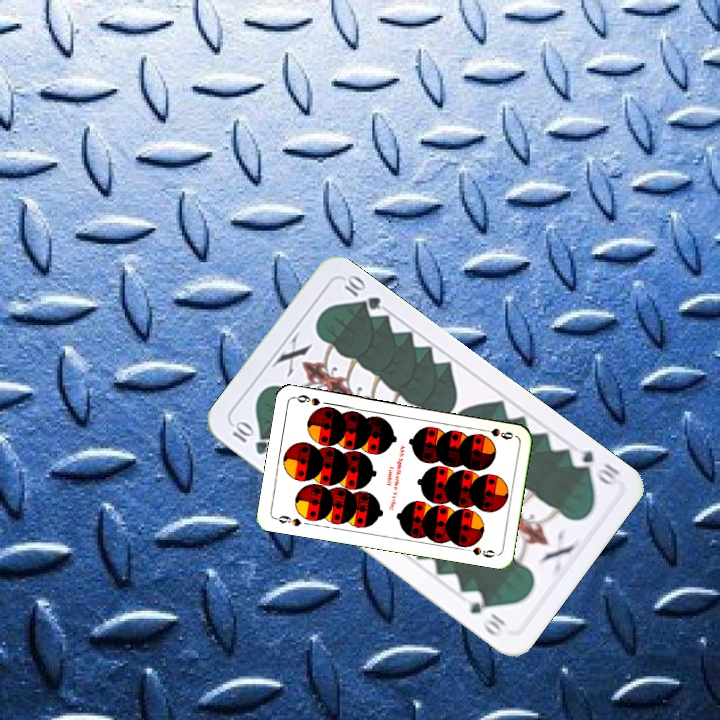G10: (566, 446, 623, 490), (228, 418, 271, 458)
S9: (477, 424, 516, 442), (271, 511, 304, 529)
